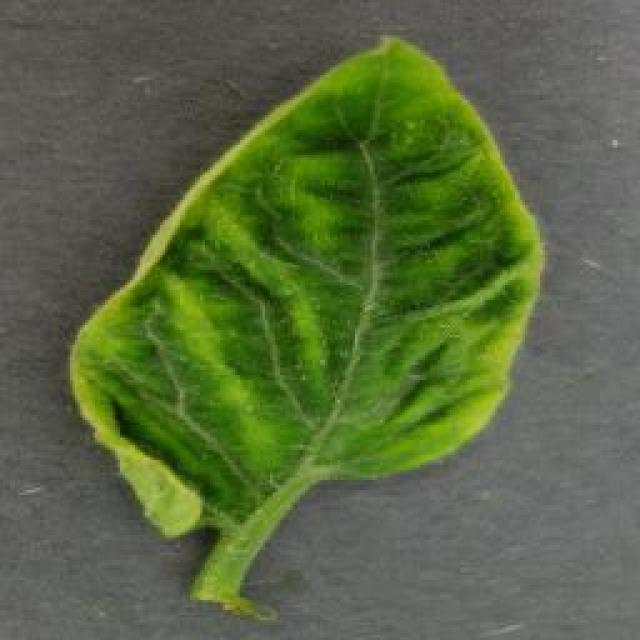Tom_Yellow_Leaf_Curl_Virus: (125, 86, 546, 502)
